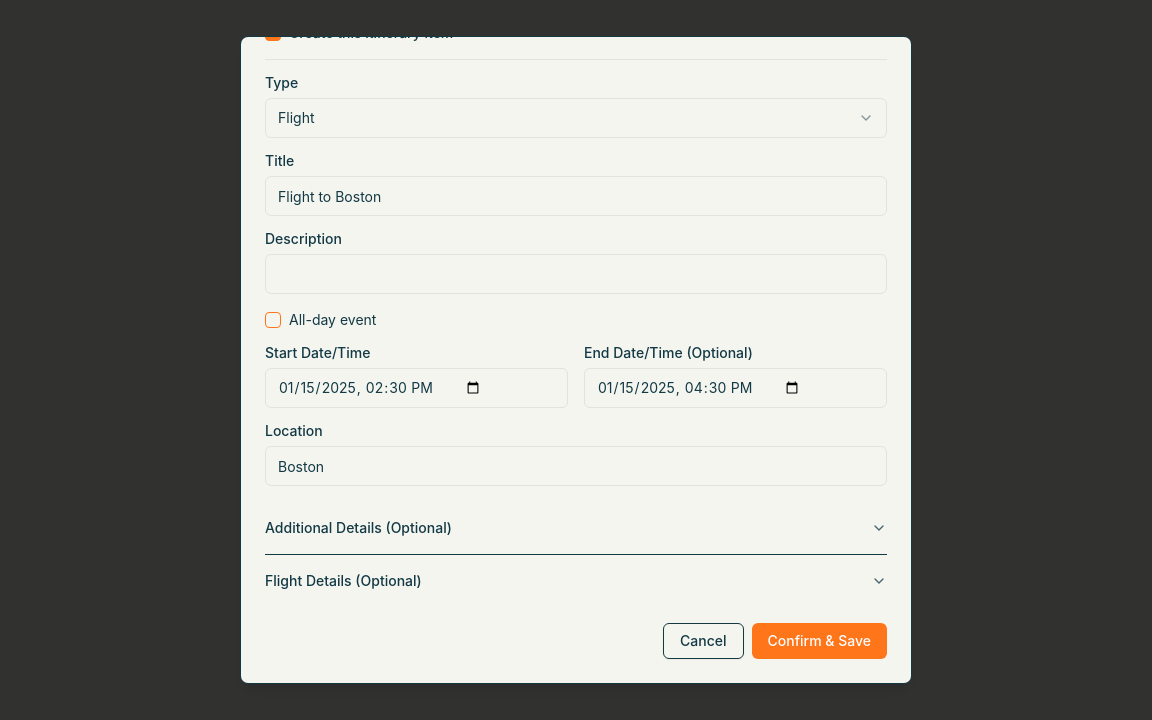
Scenario: ParsedItemModal - Itinerary Metadata › Type-Specific Metadata › initializes metadata from parsed data
(page scrolled)
# Expand flight details and verify metadata is initialized
Click the button "Flight Details (Optional)" at (343, 580), box [265, 555, 887, 607]
(page scrolled)
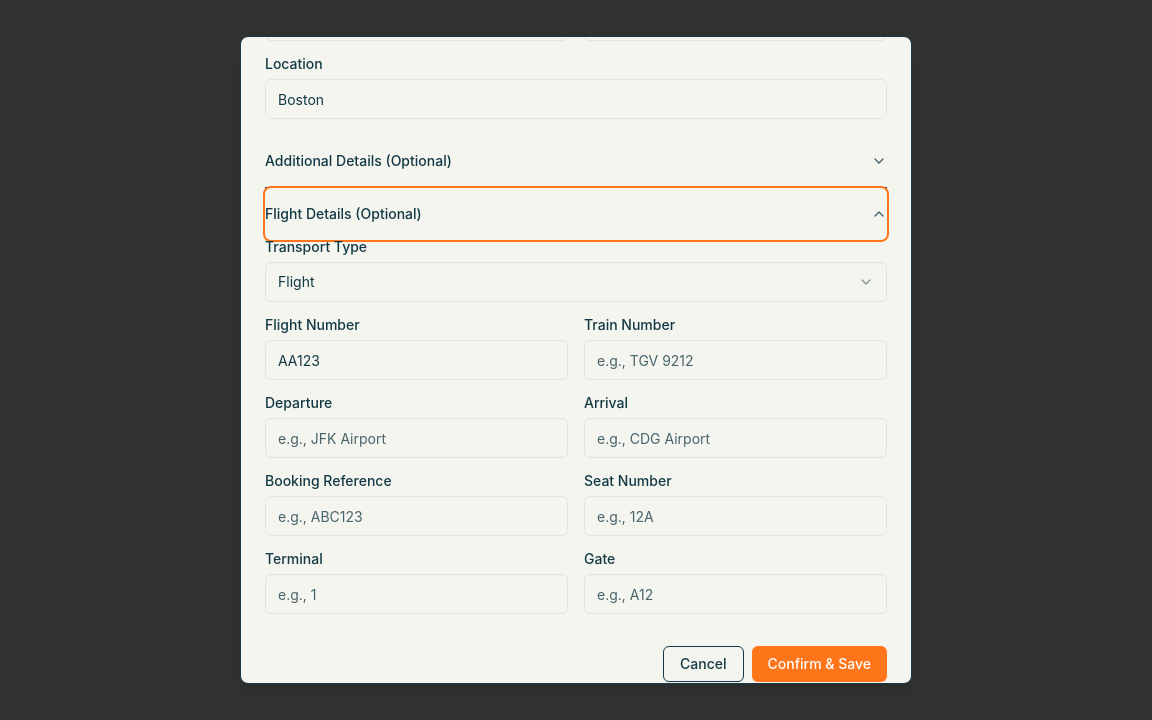
Expected: the field labelled "Flight Number" holds "AA123", [265, 340, 568, 380]
